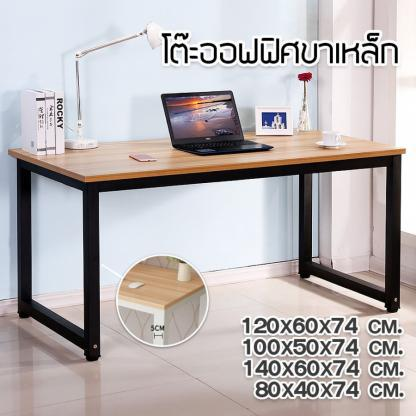table: (1, 114, 411, 366)
